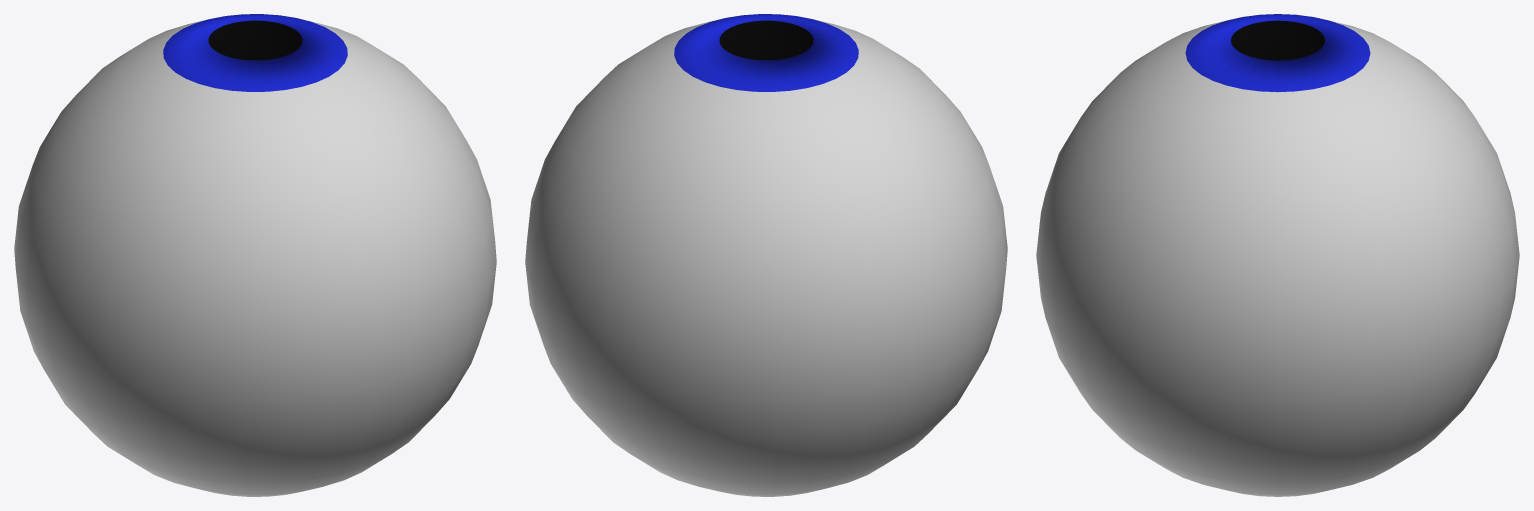
The model's file is eyeball.fbx.
The picture shows the model from 3 angles, left to right: view 1: azimuth 30°, elevation 25°; view 2: azimuth 150°, elevation 25°; view 3: azimuth 270°, elevation 25°; orthographic projection.
Visible parts, largest first — view 1: eyeball_inner_sphere; view 2: eyeball_inner_sphere; view 3: eyeball_inner_sphere.
Part boxes in pixels (x1,y1,x2,y2): eyeball_inner_sphere: (14, 14, 496, 496); eyeball_inner_sphere: (525, 14, 1007, 496); eyeball_inner_sphere: (1036, 14, 1519, 496).
Size of the model in its own units: 200 by 198 by 200.
